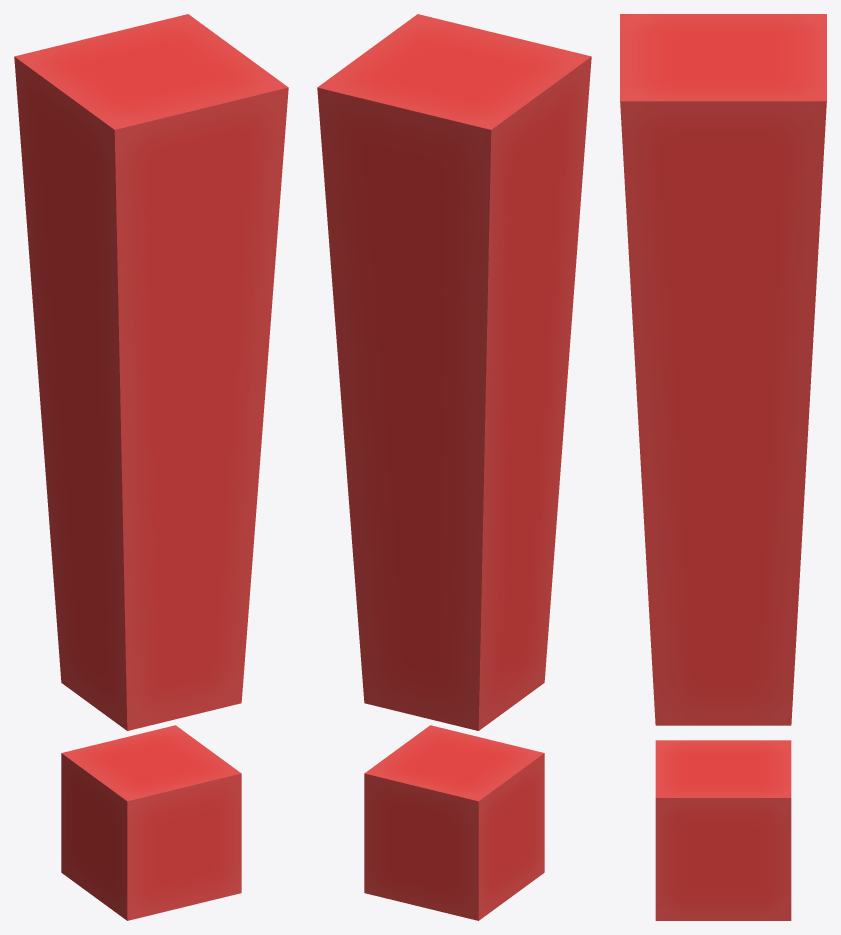
File: Exc.fbx
3 renders of one model, left to right at view 1: azimuth 30°, elevation 25°; view 2: azimuth 150°, elevation 25°; view 3: azimuth 270°, elevation 25°, orthographic. The views are drawn at different scales.
Visible parts, largest first — view 1: Box002, Box001; view 2: Box002, Box001; view 3: Box002, Box001.
Part boxes in pixels (box(x1,y1,x2,y2)): Box002: box(14, 14, 288, 730); Box001: box(61, 725, 241, 920); Box002: box(317, 14, 591, 730); Box001: box(364, 725, 544, 920); Box002: box(620, 14, 826, 725); Box001: box(655, 740, 791, 920).
Size of the model in its own units: 17.98 by 80.07 by 17.98.
Materials: 1 (1 with a texture image).
